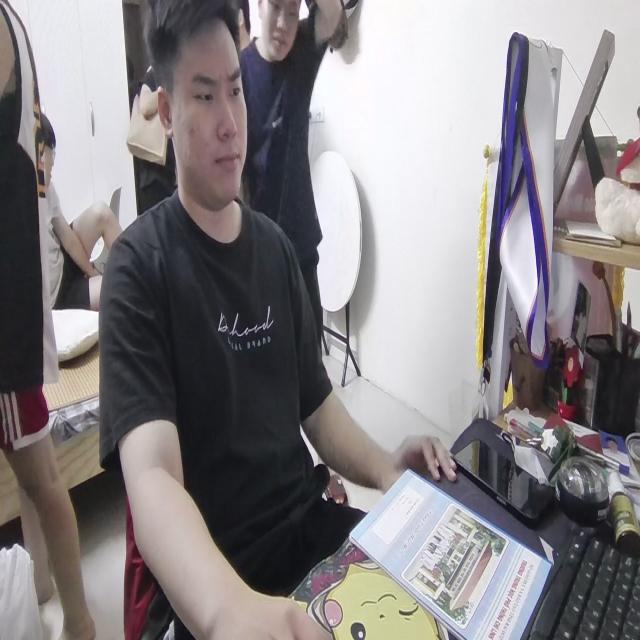book: (356, 463, 549, 640)
extra_person: (0, 0, 108, 640), (236, 0, 334, 329)
student: (101, 3, 459, 640)
